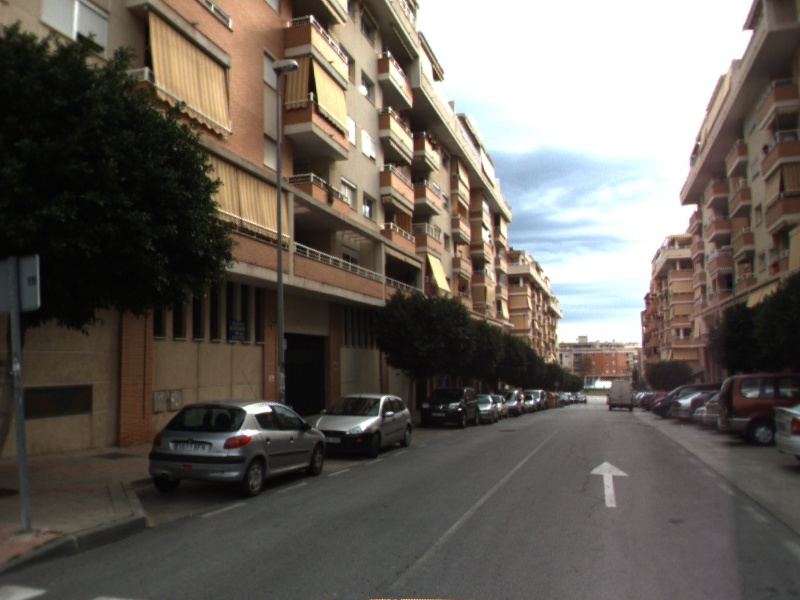STRAIGHT: (588, 459, 631, 509)
